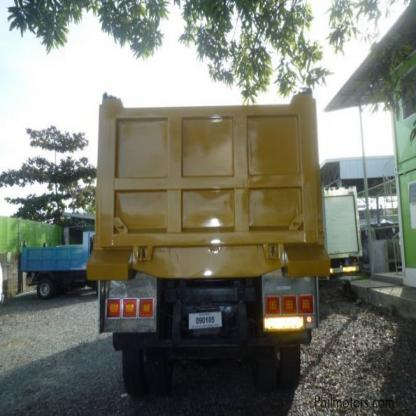truck: (88, 87, 331, 390)
